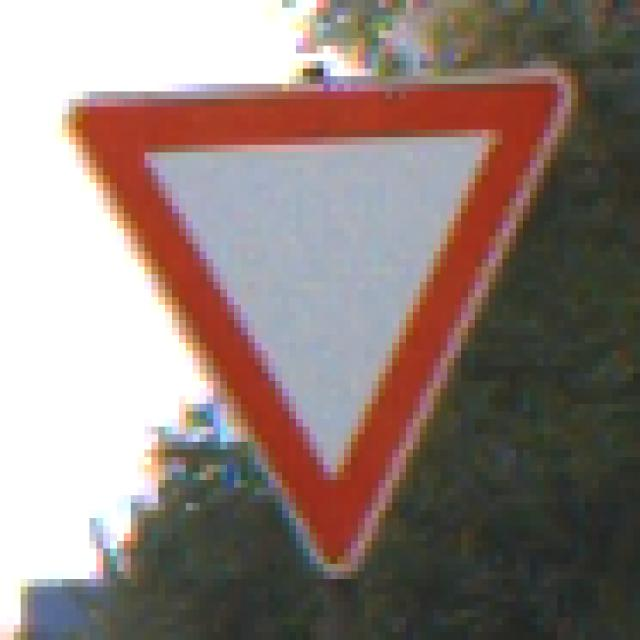Give Way: (63, 54, 586, 588)
